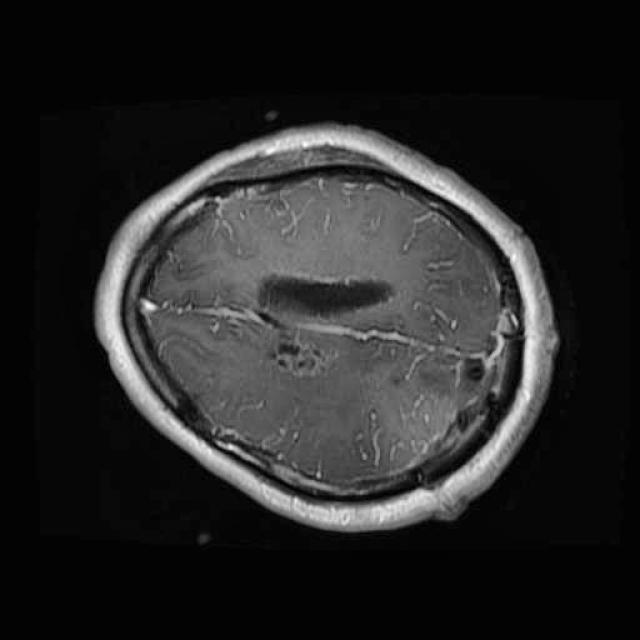Tumor: (252, 322, 348, 390)
